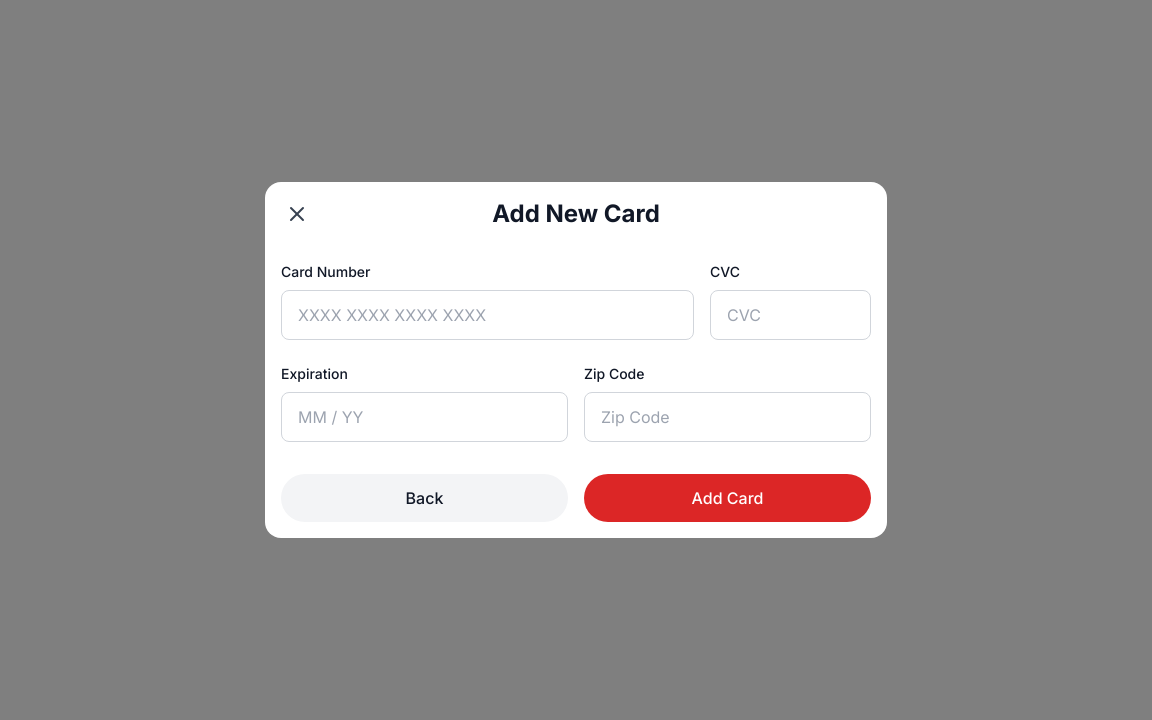
AddCardModal › should show error when card number is invalid
Type "123" into the field with placeholder "XXXX XXXX XXXX XXXX". click: (488, 315)
box: [281,290,694,340]
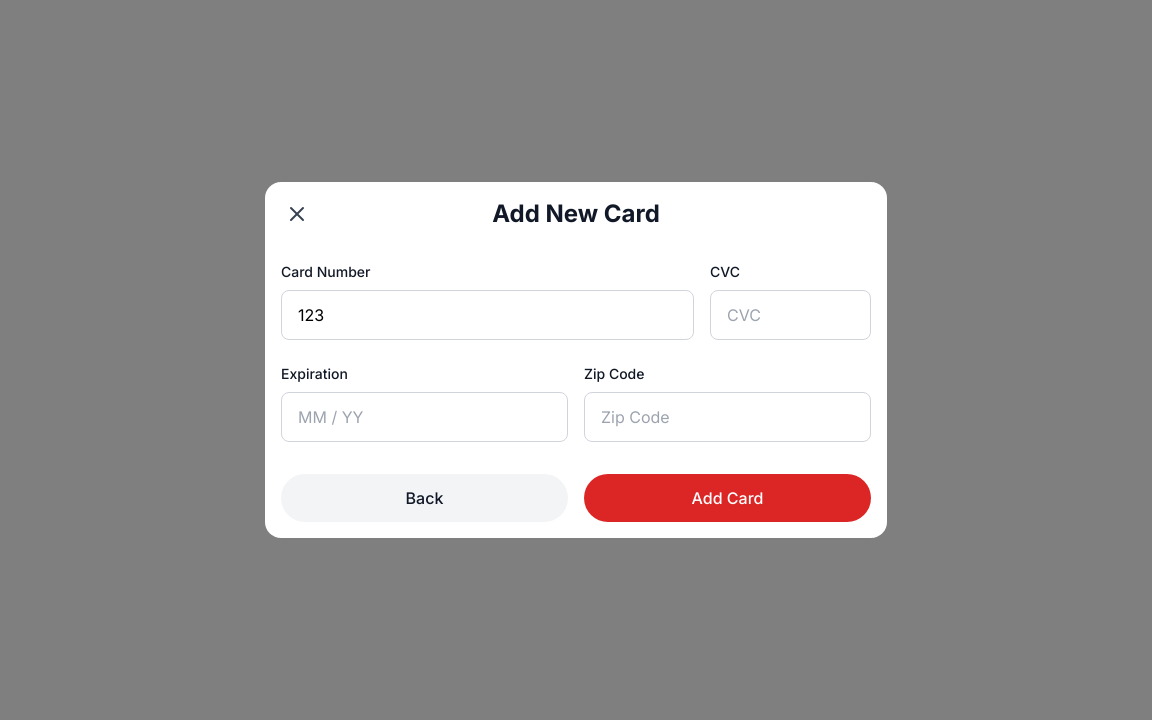
Click the button "Add Card". click: (728, 498)
box: [584,474,871,522]
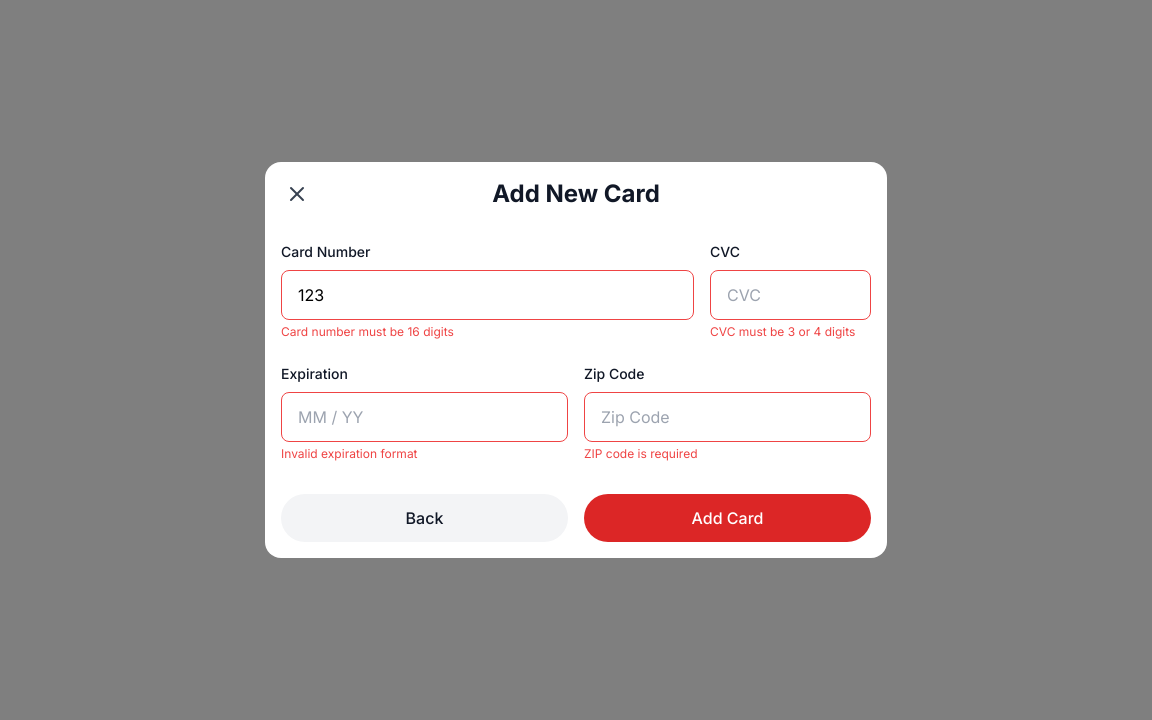
Now the text "Card number must be 16 digits" is shown, box [281,324,454,339]
